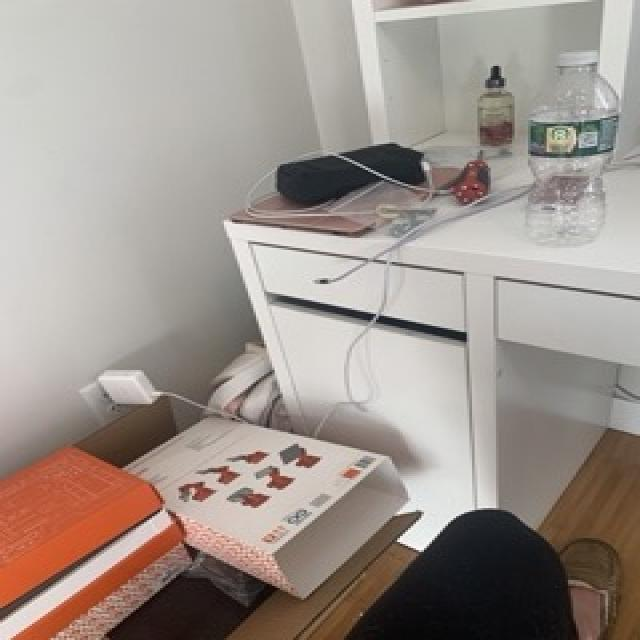water_bottle: (523, 48, 624, 254)
